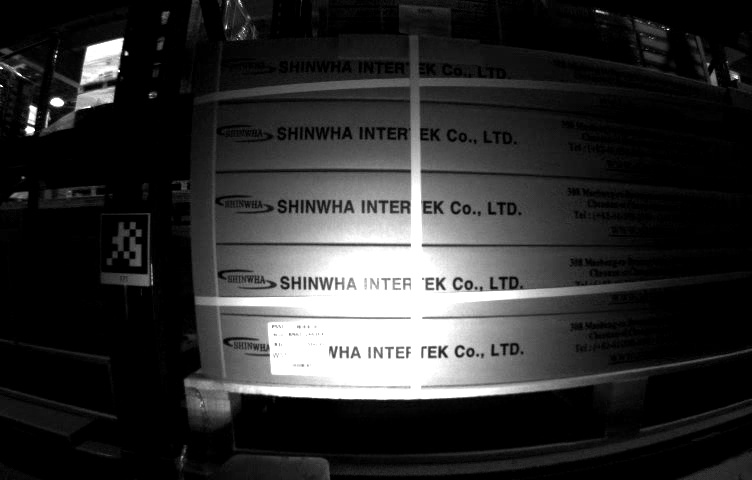True Barcode: (265, 320, 335, 375)
